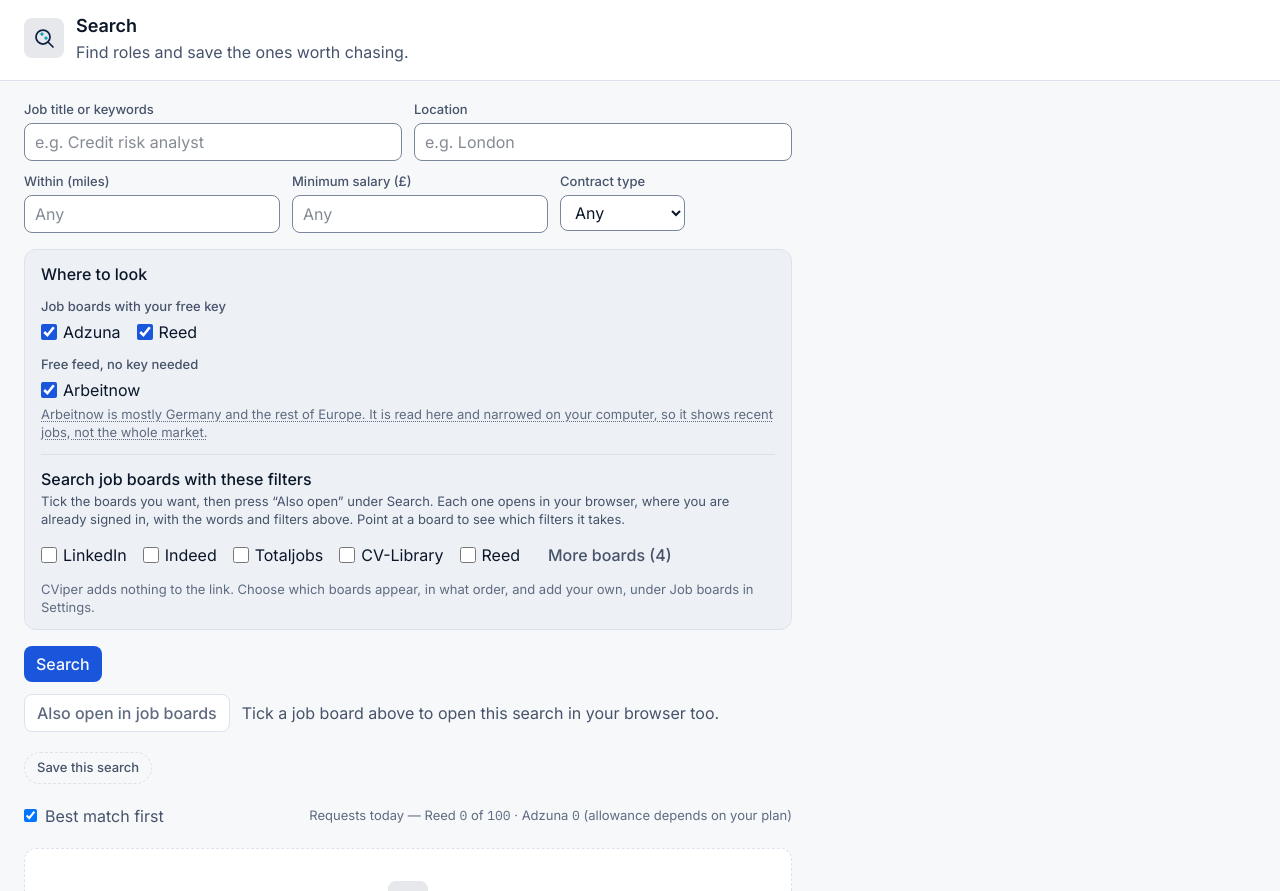
Scenario: with a CV on file › shows the best match first by default, and the toggle is ticked
Check: the checkbox with test id "search-sort-best" is checked, box [24,809,37,822]
Type "credit risk analyst" into the field with test id "search-keywords" at (213, 142), box [24,123,402,161]
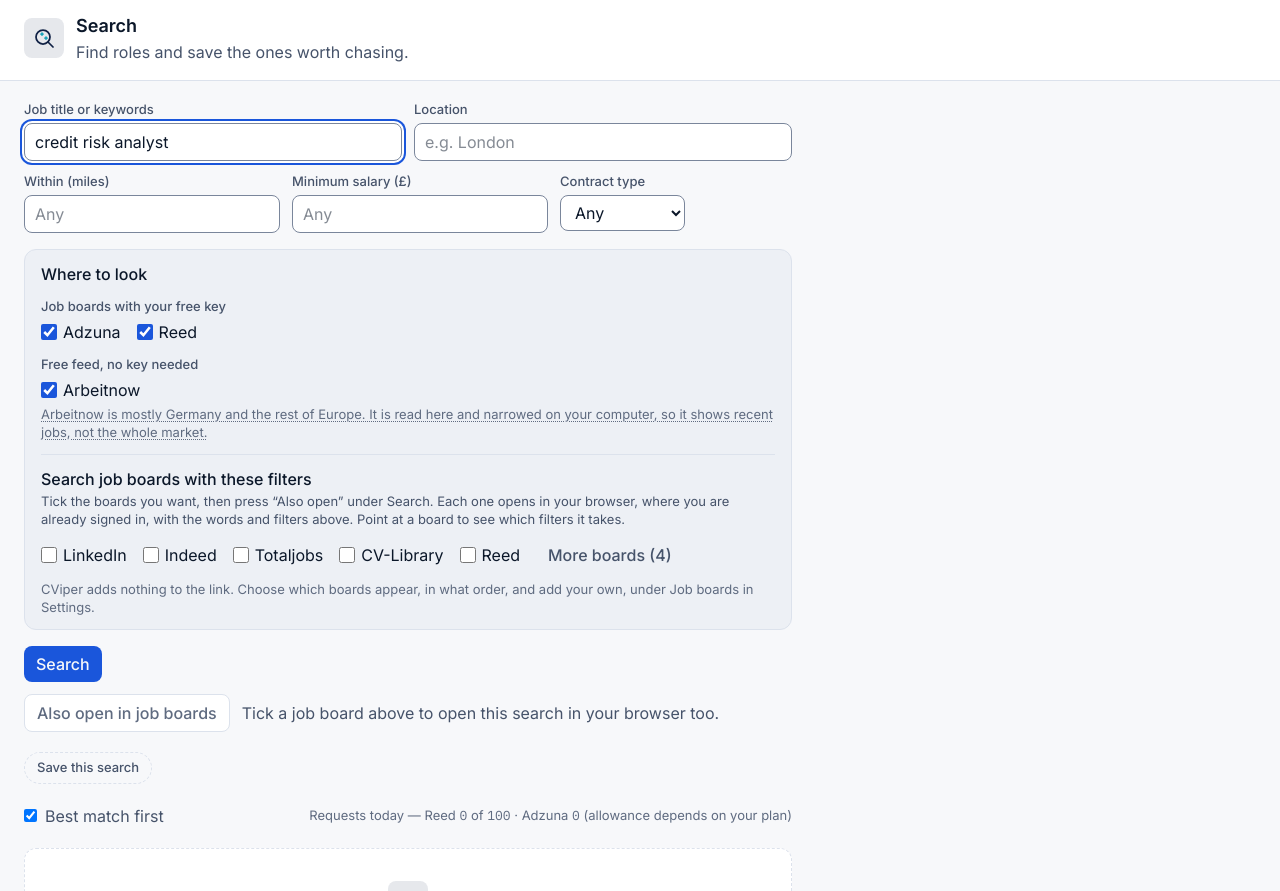
Click the button with test id "search-submit" at (63, 664), box [24,646,102,682]
(page scrolled)
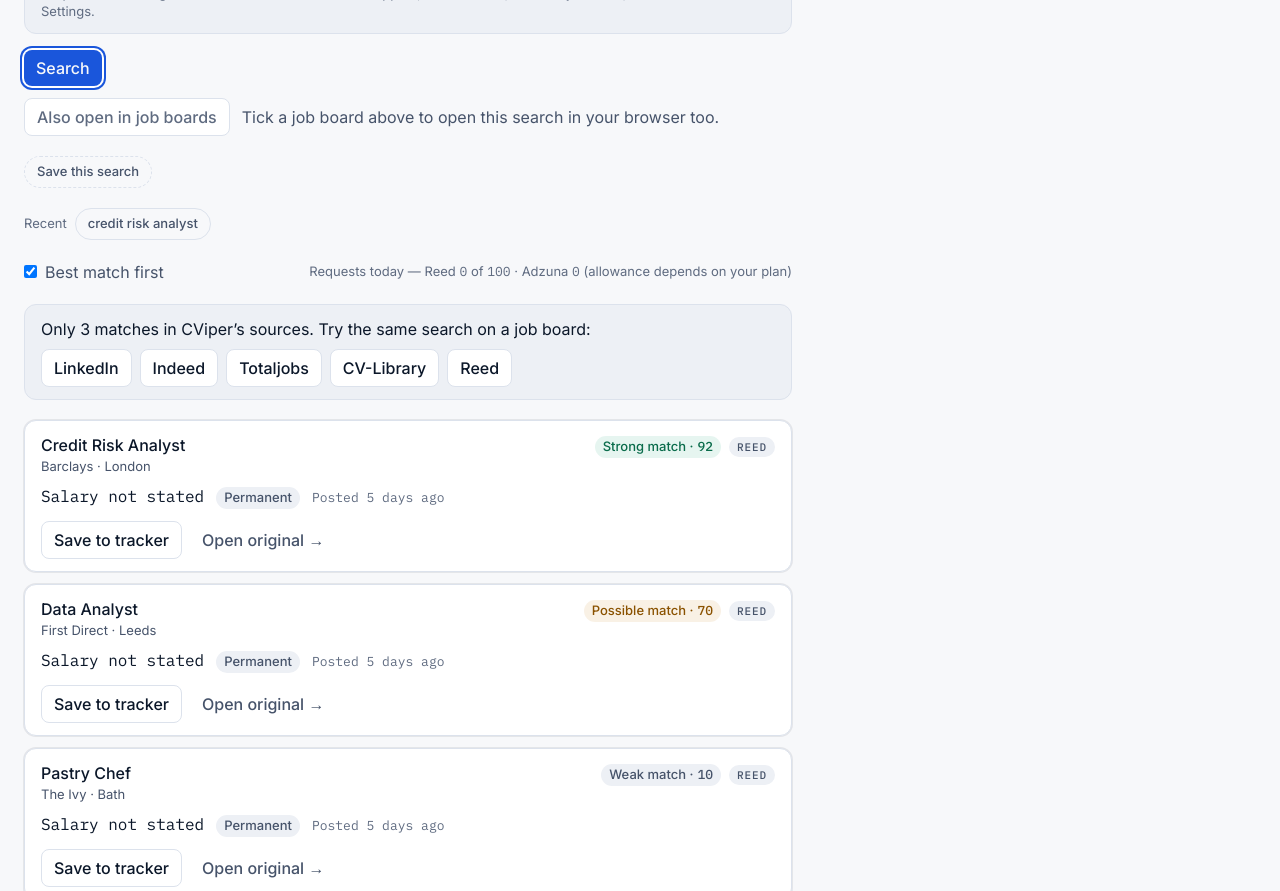
Check: the element with test id "result-rank-job-credit" is shown, box [595,436,721,458]
